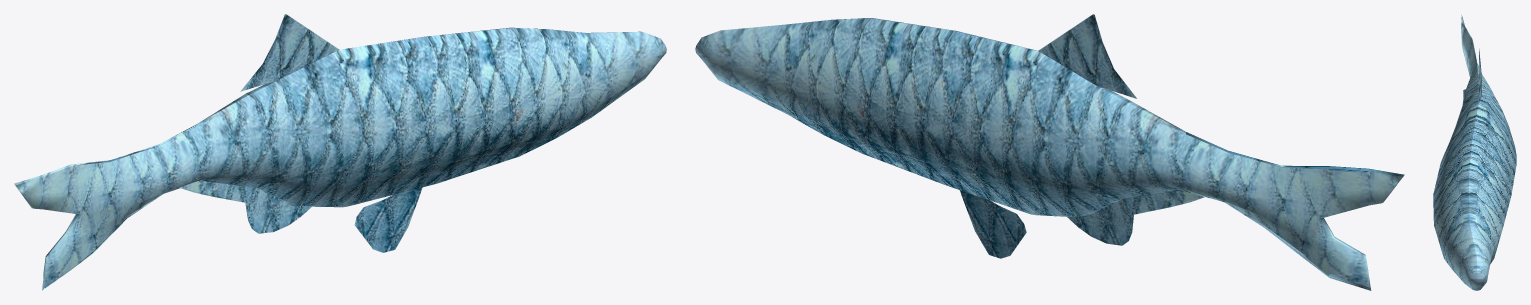
The model's file is fish1.obj.
The picture shows the model from 3 angles, left to right: view 1: azimuth 30°, elevation 25°; view 2: azimuth 150°, elevation 25°; view 3: azimuth 270°, elevation 25°; orthographic projection. The views are drawn at different scales.
Visible parts, largest first — view 1: Plane.040; view 2: Plane.040; view 3: Plane.040.
Part boxes in pixels (bbox=[...]): Plane.040: bbox=[14, 14, 666, 290]; Plane.040: bbox=[695, 14, 1404, 290]; Plane.040: bbox=[1433, 15, 1516, 290].
Size of the model in its own units: 0.3497 by 0.1309 by 0.0513.
